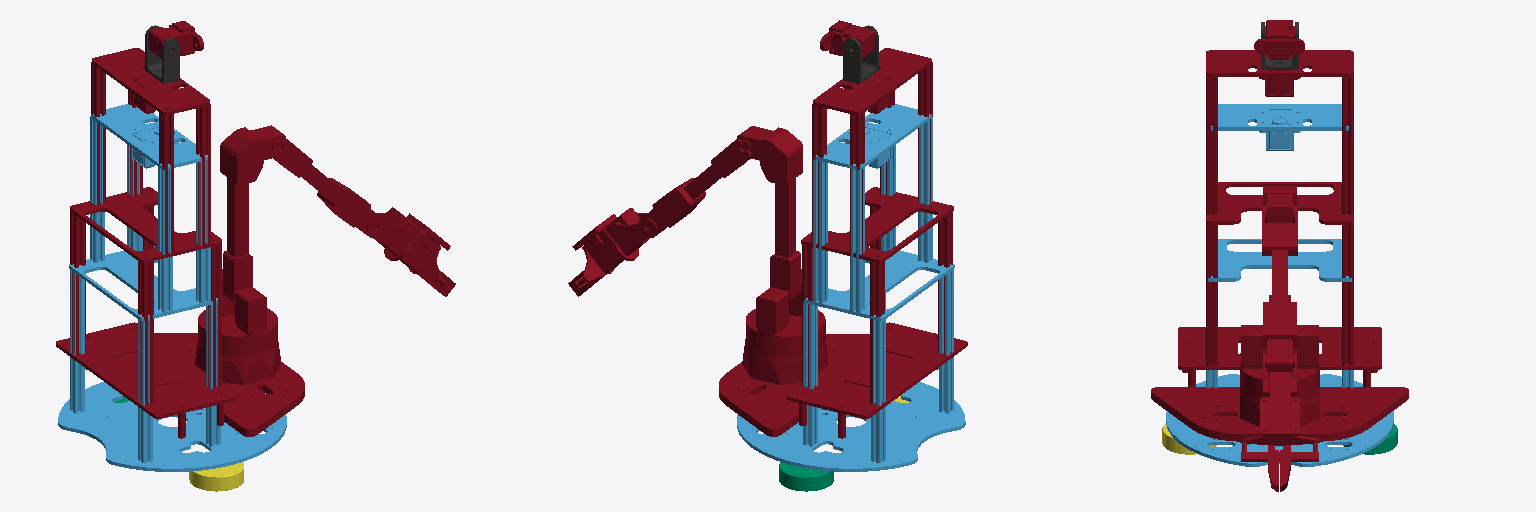
--- Facts derived from the render (not from the file) ---
Views: 3 orthographic renders of the robot side by side, from view 1: azimuth 30°, elevation 25°; view 2: azimuth 150°, elevation 25°; view 3: azimuth 270°, elevation 25°.
Model static_bot with 25 links and 24 joints (24 fixed), rooted at base_footprint, posed every joint at zero.
Visible links, largest first — view 1: base_link, cam_mount, elbow_link, plate_2, arm_base_link, forearm_link, shoulder_link, gripper_link, wrist_link, head_pan_link, head_tilt_link, wheel_right_link; view 2: base_link, cam_mount, elbow_link, plate_2, arm_base_link, forearm_link, shoulder_link, gripper_link, wrist_link, head_pan_link, head_tilt_link, wheel_left_link; view 3: cam_mount, base_link, plate_2, forearm_link, shoulder_link, arm_base_link, ar_tag, head_tilt_link, gripper_link, elbow_link, wrist_link, plate_1 (+1 smaller).
Boxes of the visible links, x1,y1,x2,y2 form: base_link: [58, 104, 286, 471]; cam_mount: [56, 48, 235, 438]; elbow_link: [220, 125, 285, 303]; plate_2: [154, 333, 304, 432]; arm_base_link: [195, 325, 280, 384]; forearm_link: [273, 139, 384, 237]; shoulder_link: [198, 269, 277, 338]; gripper_link: [384, 228, 452, 291]; wrist_link: [367, 207, 417, 255]; head_pan_link: [145, 25, 179, 83]; head_tilt_link: [148, 21, 203, 58]; wheel_right_link: [189, 462, 243, 491]; base_link: [737, 104, 965, 471]; cam_mount: [787, 48, 967, 438]; elbow_link: [737, 126, 802, 303]; plate_2: [719, 334, 869, 433]; arm_base_link: [742, 323, 828, 384]; forearm_link: [639, 139, 750, 237]; shoulder_link: [746, 269, 825, 338]; gripper_link: [571, 228, 638, 291]; wrist_link: [605, 208, 656, 255]; head_pan_link: [843, 25, 878, 83]; head_tilt_link: [820, 20, 874, 57]; wheel_left_link: [779, 462, 833, 491]; cam_mount: [1178, 50, 1381, 386]; base_link: [1166, 104, 1393, 466]; plate_2: [1151, 387, 1408, 437]; forearm_link: [1262, 207, 1297, 371]; shoulder_link: [1240, 325, 1319, 381]; arm_base_link: [1240, 369, 1319, 426]; ar_tag: [1260, 397, 1299, 435]; head_tilt_link: [1254, 20, 1304, 59]; gripper_link: [1240, 436, 1319, 461]; elbow_link: [1263, 186, 1296, 301]; wrist_link: [1263, 351, 1296, 396]; plate_1: [1151, 395, 1408, 441].
Bounding box of the posed robot: 0.545 × 0.3299 × 0.5892 m (x, y, z).
Meshes: 16 distinct files referenced, 17 mesh visuals loaded (15 OBJ); not drawn: 1 (reference not matched to a file when rendering).

The robot description file, URDF, robot "static_bot":
<?xml version="1.0" ?>
<robot name="static_bot">
    <!-- Kobuki -->
    <link name="base_footprint"/>
    <!--
       Base link is set at the bottom of the base mould.
       This is done to be compatible with the way base link
       was configured for turtlebot 1. Refer to

       https://github.com/turtlebot/turtlebot/issues/40

       To put the base link at the more oft used wheel
       axis, set the z-distance from the base_footprint
       to 0.352.
      -->
    <joint name="base_joint" type="fixed">
        <origin rpy="0 0 0" xyz="0 0 0"/>
        <parent link="base_footprint"/>
        <child link="base_link"/>
    </joint>
    <link name="base_link">
        <visual>
            <geometry>
                <!-- new mesh -->
                <mesh filename="meshes/base_link2.obj"/>
            </geometry>
            <origin rpy="0 0 0" xyz="0.001 0 0.05199"/>
        </visual>
        <collision name="base">
            <geometry>
                <cylinder length="0.10938" radius="0.178"/>
            </geometry>
            <origin rpy="0 0 0" xyz="0.0 0 0.05949"/>
        </collision>
        <inertial>
            <!-- COM experimentally determined -->
            <origin xyz="0.01 0 0"/>
            <mass value="2.4"/>
            <!-- 2.4/2.6 kg for small/big battery pack -->
            <!-- Kobuki's inertia tensor is approximated by a cylinder with homogeneous mass distribution
             More details: http://en.wikipedia.org/wiki/List_of_moment_of_inertia_tensors
             m = 2.4 kg; h = 0.09 m; r = 0.175 m
             ixx = 1/12 * m * (3 * r^2 + h^2)
             iyy = 1/12 * m * (3 * r^2 + h^2)
             izz = 1/2 * m * r^2
          -->
            <inertia ixx="0.019995" ixy="0.0" ixz="0.0" iyy="0.019995" iyz="0.0" izz="0.03675"/>
        </inertial>
    </link>
    <joint name="wheel_left_joint" type="fixed">
        <parent link="base_link"/>
        <child link="wheel_left_link"/>
        <origin rpy="-1.57079632679 0 0" xyz="0.00 0.115 0.0250"/>
    </joint>
    <link name="wheel_left_link">
        <visual>
            <geometry>
                <mesh filename="meshes/wheel.obj"/>
            </geometry>
            <origin rpy="0 0 0" xyz="0 0 0"/>
        </visual>
        <collision>
            <geometry>
                <cylinder length="0.0206" radius="0.0352"/>
            </geometry>
            <origin rpy="0 0 0" xyz="0 0 0"/>
        </collision>
        <inertial>
            <mass value="0.01"/>
            <origin xyz="0 0 0"/>
            <inertia ixx="0.001" ixy="0.0" ixz="0.0" iyy="0.001" iyz="0.0" izz="0.001"/>
        </inertial>
    </link>
    <joint name="wheel_right_joint" type="fixed">
        <parent link="base_link"/>
        <child link="wheel_right_link"/>
        <origin rpy="-1.57079632679 0 0" xyz="0.00 -0.115 0.0250"/>
    </joint>
    <link name="wheel_right_link">
        <visual>
            <geometry>
                <mesh filename="meshes/wheel.obj"/>
            </geometry>
            <origin rpy="0 0 0" xyz="0 0 0"/>
        </visual>
        <collision>
            <geometry>
                <cylinder length="0.0206" radius="0.0350"/>
            </geometry>
            <origin rpy="0 0 0" xyz="0 0 0"/>
        </collision>
        <inertial>
            <mass value="0.01"/>
            <origin xyz="0 0 0"/>
            <inertia ixx="0.001" ixy="0.0" ixz="0.0" iyy="0.001" iyz="0.0" izz="0.001"/>
        </inertial>
    </link>
    <joint name="caster_front_joint" type="fixed">
        <parent link="base_link"/>
        <child link="caster_front_link"/>
        <origin rpy="-1.57079632679 0 0" xyz="0.115 0.0 0.007"/>
    </joint>
    <link name="caster_front_link">
        <collision>
            <geometry>
                <cylinder length="0.0176" radius="0.017"/>
            </geometry>
            <origin rpy="0 0 0" xyz="0 0 0"/>
        </collision>
        <inertial>
            <mass value="0.01"/>
            <origin xyz="0 0 0"/>
            <inertia ixx="0.001" ixy="0.0" ixz="0.0" iyy="0.001" iyz="0.0" izz="0.001"/>
        </inertial>
    </link>
    <joint name="caster_back_joint" type="fixed">
        <parent link="base_link"/>
        <child link="caster_back_link"/>
        <origin rpy="-1.57079632679 0 0" xyz="-0.135 0.0 0.009"/>
    </joint>
    <link name="caster_back_link">
        <collision>
            <geometry>
                <cylinder length="0.0176" radius="0.017"/>
            </geometry>
            <origin rpy="0 0 0" xyz="0 0 0"/>
        </collision>
        <inertial>
            <mass value="0.01"/>
            <origin xyz="0 0 0"/>
            <inertia ixx="0.001" ixy="0.0" ixz="0.0" iyy="0.001" iyz="0.0" izz="0.001"/>
        </inertial>
    </link>
    <!-- Kobuki's sensors -->
    <joint name="gyro_joint" type="fixed">
        <axis xyz="0 1 0"/>
        <origin rpy="0 0 0" xyz="0.056 0.062 0.0202"/>
        <parent link="base_link"/>
        <child link="gyro_link"/>
    </joint>
    <link name="gyro_link">
        <inertial>
            <mass value="0.001"/>
            <origin rpy="0 0 0" xyz="0 0 0"/>
            <inertia ixx="0.0001" ixy="0" ixz="0" iyy="0.000001" iyz="0" izz="0.0001"/>
        </inertial>
    </link>
    <joint name="cliff_sensor_left_joint" type="fixed">
        <origin rpy="0 1.57079632679 0" xyz="0.08734 0.13601 0.0214"/>
        <parent link="base_link"/>
        <child link="cliff_sensor_left_link"/>
    </joint>
    <link name="cliff_sensor_left_link">
        <inertial>
            <mass value="0.0001"/>
            <origin xyz="0 0 0"/>
            <inertia ixx="0.0001" ixy="0.0" ixz="0.0" iyy="0.0001" iyz="0.0" izz="0.0001"/>
        </inertial>
    </link>
    <joint name="cliff_sensor_right_joint" type="fixed">
        <origin rpy="0 1.57079632679 0" xyz="0.085 -0.13601 0.0214"/>
        <parent link="base_link"/>
        <child link="cliff_sensor_right_link"/>
    </joint>
    <link name="cliff_sensor_right_link">
        <inertial>
            <mass value="0.0001"/>
            <origin xyz="0 0 0"/>
            <inertia ixx="0.0001" ixy="0.0" ixz="0.0" iyy="0.0001" iyz="0.0" izz="0.0001"/>
        </inertial>
    </link>
    <joint name="cliff_sensor_front_joint" type="fixed">
        <origin rpy="0 1.57079632679 0" xyz="0.156 0.00 0.0214"/>
        <parent link="base_link"/>
        <child link="cliff_sensor_front_link"/>
    </joint>
    <link name="cliff_sensor_front_link">
        <inertial>
            <mass value="0.0001"/>
            <origin xyz="0 0 0"/>
            <inertia ixx="0.0001" ixy="0.0" ixz="0.0" iyy="0.0001" iyz="0.0" izz="0.0001"/>
        </inertial>
    </link>
    <!-- plates  -->
    <link name="plate_1">
        <inertial>
            <origin rpy="0 0 0" xyz="0 0 0"/>
            <mass value="0.640128902693298"/>
            <inertia ixx="0.0212697824374231" ixy="-1.84819421839641E-07" ixz="0.00177278831625861" iyy="0.0200161122874848" iyz="1.82514218153984E-07" izz="0.00538401325307411"/>
        </inertial>
        <visual>
            <origin rpy="0 0 0" xyz="0 0 0"/>
            <geometry>
                <mesh filename="meshes/plate.obj"/>
            </geometry>
            <material name="">
                <color rgba="0.56 0.095 0.165 1.0" />
            </material>
        </visual>
        <collision>
            <origin rpy="0 0 0" xyz="0 0 0"/>
            <geometry>
                <mesh filename="meshes/plate.obj"/>
            </geometry>
        </collision>
    </link>
    <joint name="plate_1_joint" type="fixed">
        <origin rpy="0 0 0" xyz="0.0973 0 0.0902375"/>
        <parent link="base_link"/>
        <child link="plate_1"/>
        <axis xyz="0 0 0"/>
    </joint>
    <link name="plate_2">
        <inertial>
            <origin rpy="0 0 0" xyz="0 0 0"/>
            <mass value="0.640128902693298"/>
            <inertia ixx="0.0212697824374231" ixy="-1.84819421839641E-07" ixz="0.00177278831625861" iyy="0.0200161122874848" iyz="1.82514218153984E-07" izz="0.00538401325307411"/>
        </inertial>
        <visual>
            <origin rpy="0 0 0" xyz="0 0 0"/>
            <geometry>
                <mesh filename="meshes/plate.obj"/>
            </geometry>
            <material name="">
                <color rgba="0.56 0.095 0.165 1.0" />
            </material>
        </visual>
        <collision>
            <origin rpy="0 0 0" xyz="0 0 0"/>
            <geometry>
                <mesh filename="meshes/plate.obj"/>
            </geometry>
        </collision>
    </link>
    <joint name="plate_2_joint" type="fixed">
        <origin rpy="0 0 0" xyz="0 0 0.0047625"/>
        <parent link="plate_1"/>
        <child link="plate_2"/>
        <axis xyz="0 0 0"/>
    </joint>
    <!-- add arm -->
    <link name="arm_base_link">
        <inertial>
            <origin rpy="0 0 0" xyz="-1.86027246940057E-08 -1.84987775462994E-08 0.0400356424684456"/>
            <mass value="0.531491686912019"/>
            <inertia ixx="0.000533657400855491" ixy="-4.44205269454465E-09" ixz="2.11078566024265E-10" iyy="0.000533665698902565" iyz="5.02029005902419E-11" izz="0.00071572082392375"/>
        </inertial>
        <visual>
            <origin rpy="0 0 0" xyz="0 0 0"/>
            <geometry>
                <mesh filename="meshes/arm_base_link.obj"/>
            </geometry>
            <material name="">
                <color rgba="0.56 0.095 0.165 1.0" />
            </material>
        </visual>
        <collision>
            <origin rpy="0 0 0" xyz="0 0 0"/>
            <geometry>
                <mesh filename="meshes/arm_base_link.obj"/>
            </geometry>
        </collision>
    </link>
    <joint name="arm_base_link_joint" type="fixed">
        <origin rpy="0 0 0" xyz="0 0 0.001"/>
        <parent link="plate_2"/>
        <child link="arm_base_link"/>
        <axis xyz="0 0 0"/>
    </joint>
    <link name="shoulder_link">
        <inertial>
            <origin rpy="0 0 0" xyz="-5.67968980068612E-05 1.09785478984274E-10 0.0228467386735302"/>
            <mass value="0.119861197293521"/>
            <inertia ixx="0.000161288180462291" ixy="7.59806211309873E-14" ixz="-1.45323090659527E-07" iyy="5.49696562437107E-05" iyz="1.81052501311883E-13" izz="0.000150800672543169"/>
        </inertial>
        <visual>
            <origin rpy="0 0 0" xyz="0 0 0"/>
            <geometry>
                <mesh filename="meshes/shoulder_link.obj"/>
            </geometry>
            <material name="">
                <color rgba="0.56 0.095 0.165 1.0" />
            </material>
        </visual>
        <collision>
            <origin rpy="0 0 0" xyz="0 0 0"/>
            <geometry>
                <mesh filename="meshes/shoulder_link.obj"/>
            </geometry>
        </collision>
    </link>
    <joint name="joint_1" type="fixed">
        <origin rpy="0 0 0" xyz="0 0 0.072"/>
        <parent link="arm_base_link"/>
        <child link="shoulder_link"/>

    </joint>
    <link name="elbow_link">
        <inertial>
            <origin rpy="0 0 0" xyz="0.00959755948481227 -2.30930057287648E-10 0.134296795349987"/>
            <mass value="0.212482745791037"/>
            <inertia ixx="0.0011748973771367" ixy="-4.7094567420817E-13" ixz="-0.000132188939134774" iyy="0.00122350302249847" iyz="-5.48932537472287E-12" izz="9.02202689343621E-05"/>
        </inertial>
        <visual>
            <origin rpy="0 0 0" xyz="0 0 0"/>
            <geometry>
                <mesh filename="meshes/elbow_link.obj"/>
            </geometry>
            <material name="">
                <color rgba="0.56 0.095 0.165 1.0" />
            </material>
        </visual>
        <collision>
            <origin rpy="0 0 0" xyz="0 0 0"/>
            <geometry>
                <mesh filename="meshes/elbow_link.obj"/>
            </geometry>
        </collision>
    </link>
    <joint name="joint_2" type="fixed">
        <origin rpy="0 0 0" xyz="0 0 0.04125"/>
        <parent link="shoulder_link"/>
        <child link="elbow_link"/>

    </joint>
    <link name="forearm_link">
        <inertial>
            <origin rpy="0 0 0" xyz="0.117829826272582 3.09310973110905E-15 -1.26218883678142E-08"/>
            <mass value="0.18746427435805"/>
            <inertia ixx="3.94142667601686E-05" ixy="-3.65830967659785E-19" ixz="9.25852572167442E-11" iyy="0.000725209569605637" iyz="-1.05290858715495E-18" izz="0.000737165881391993"/>
        </inertial>
        <visual>
            <origin rpy="0 0 0" xyz="0 0 0"/>
            <geometry>
                <mesh filename="meshes/forearm_link.obj"/>
            </geometry>
            <material name="">
                <color rgba="0.56 0.095 0.165 1.0" />
            </material>
        </visual>
        <collision>
            <origin rpy="0 0 0" xyz="0 0 0"/>
            <geometry>
                <mesh filename="meshes/forearm_link.obj"/>
            </geometry>
        </collision>
    </link>
    <joint name="joint_3" type="fixed">
        <origin rpy="0 0.8 0" xyz="0.05 0 0.2"/>
        <parent link="elbow_link"/>
        <child link="forearm_link"/>

    </joint>
    <link name="wrist_link">
        <inertial>
            <origin rpy="0 0 0" xyz="0.0429410028407894 4.98644733821042E-05 0.0114266948023652"/>
            <mass value="0.0605921736680362"/>
            <inertia ixx="1.84998512056284E-05" ixy="-1.03256667343112E-08" ixz="-1.71865409274096E-06" iyy="2.08955068262134E-05" iyz="5.05203399787143E-09" izz="1.97857037442992E-05"/>
        </inertial>
        <visual>
            <origin rpy="0 0 0" xyz="0 0 0"/>
            <geometry>
                <mesh filename="meshes/wrist_link.obj"/>
            </geometry>
            <material name="">
                <color rgba="0.56 0.095 0.165 1.0" />
            </material>
        </visual>
        <collision>
            <origin rpy="0 0 0" xyz="0 0 0"/>
            <geometry>
                <mesh filename="meshes/wrist_link.obj"/>
            </geometry>
        </collision>
    </link>
    <joint name="joint_4" type="fixed">
        <origin rpy="0 0 0" xyz="0.2002 0 0"/>
        <parent link="forearm_link"/>
        <child link="wrist_link"/>

    </joint>
    <link name="gripper_link">
        <inertial>
            <origin rpy="0 0 0" xyz="0.0311572802112565 -1.25977280754998E-05 0.0092307003092138"/>
            <mass value="0.0795745052466434"/>
            <inertia ixx="3.27413333929741E-05" ixy="3.7314060486416E-08" ixz="3.97669066588691E-06" iyy="4.47182985231326E-05" iyz="-9.49992756213297E-09" izz="5.02142570756738E-05"/>
        </inertial>
        <visual>
            <origin rpy="0 0 0" xyz="0 0 0"/>
            <geometry>
                <mesh filename="meshes/gripper_link.obj"/>
            </geometry>
            <material name="">
                <color rgba="0.56 0.095 0.165 1.0" />
            </material>
        </visual>
        <collision>
            <origin rpy="0 0 0" xyz="0 0 0"/>
            <geometry>
                <mesh filename="meshes/gripper_link.obj"/>
            </geometry>
        </collision>
    </link>
    <joint name="joint_5" type="fixed">
        <origin rpy="0 0 0" xyz="0.063 0.0001 0"/>
        <parent link="wrist_link"/>
        <child link="gripper_link"/>
    </joint>
    <link name="finger_r">
        <inertial>
            <origin rpy="0 0 0" xyz="0.0100191457715113 -0.00843835347348892 -0.00483280251641866"/>
            <mass value="0.0121931459003602"/>
            <inertia ixx="6.74016278931418E-07" ixy="-2.36459038775023E-07" ixz="3.1480125304693E-09" iyy="3.10966297287339E-06" iyz="1.19271018871704E-10" izz="2.77935600332309E-06"/>
        </inertial>
        <visual>
            <origin rpy="0 0 0" xyz="0 0 0"/>
            <geometry>
                <mesh filename="meshes/finger_r.obj"/>
            </geometry>
            <material name="">
                <color rgba="0.56 0.095 0.165 1.0" />
            </material>
        </visual>
        <collision>
            <origin rpy="0 0 0" xyz="0 0 0"/>
            <geometry>
                <mesh filename="meshes/finger_r.obj"/>
            </geometry>
        </collision>
    </link>
    <joint name="joint_6" type="fixed">
        <origin rpy="0 0 0" xyz="0.07285 0 0.0050143"/>
        <parent link="gripper_link"/>
        <child link="finger_r"/>

    </joint>
    <link name="finger_l">
        <inertial>
            <origin rpy="0 0 0" xyz="0.0100191599590265 0.00643833435729511 -0.00483280251641866"/>
            <mass value="0.0121931459003603"/>
            <inertia ixx="6.74017180959932E-07" ixy="2.3646368440071E-07" ixz="3.14801230297432E-09" iyy="3.10966207084492E-06" iyz="-1.19277023229564E-10" izz="2.77935600332313E-06"/>
        </inertial>
        <visual>
            <origin rpy="0 0 0" xyz="0 0 0"/>
            <geometry>
                <mesh filename="meshes/finger_l.obj"/>
            </geometry>
            <material name="">
                <color rgba="0.56 0.095 0.165 1.0" />
            </material>
        </visual>
        <collision>
            <origin rpy="0 0 0" xyz="0 0 0"/>
            <geometry>
                <mesh filename="meshes/finger_l.obj"/>
            </geometry>
        </collision>
    </link>
    <joint name="joint_7" type="fixed">
        <origin rpy="0 0 0" xyz="0.07285 0 0.0050143"/>
        <parent link="gripper_link"/>
        <child link="finger_l"/>

    </joint>
    <link name="ar_tag">
        <inertial>
            <origin rpy="0 0 0" xyz="-1.59182528269852E-09 1.70641183422241E-09 -0.00509579048106218"/>
            <mass value="0.0202622634619862"/>
            <inertia ixx="4.71058333074219E-06" ixy="3.03778067070489E-12" ixz="6.65421687578365E-13" iyy="4.05773489073818E-06" iyz="1.37033485576347E-13" izz="7.92378853658606E-06"/>
        </inertial>
        <visual>
            <origin rpy="0 0 0" xyz="0 0 0"/>
            <geometry>
                <mesh filename="meshes/ar_tag.obj"/>
            </geometry>
            <material name="">
                <color rgba="0.56 0.095 0.165 1.0" />
            </material>
        </visual>
        <collision>
            <origin rpy="0 0 0" xyz="0 0 0"/>
            <geometry>
                <mesh filename="meshes/ar_tag.obj"/>
            </geometry>
        </collision>
    </link>
    <joint name="ar_tag_joint" type="fixed">
        <origin rpy="0 0 0" xyz="0.0269499999999999 0 0.04315"/>
        <parent link="gripper_link"/>
        <child link="ar_tag"/>
        <axis xyz="0 0 0"/>
    </joint>
    <!-- need to add camera assembly -->
    <link name="cam_mount">
        <inertial>
            <origin rpy="0 0 0" xyz="0.00357169217419921 -0.000144750803528887 0.178406861295468"/>
            <mass value="0.508068698311304"/>
            <inertia ixx="0.0159487749924762" ixy="9.45818767875249E-08" ixz="-0.000266253609478166" iyy="0.0137751425461872" iyz="2.26699147122113E-06" izz="0.00331206257835318"/>
        </inertial>
        <visual>
            <origin rpy="0 0 0" xyz="0 0 0"/>
            <geometry>
                <mesh filename="meshes/cam_mount.obj"/>
            </geometry>
            <material name="">
                <color rgba="0.56 0.095 0.165 1.0" />
            </material>
        </visual>
        <collision>
            <origin rpy="0 0 0" xyz="0 0 0"/>
            <geometry>
                <mesh filename="meshes/cam_mount.obj"/>
            </geometry>
        </collision>
    </link>
    <joint name="cam_mount_joint" type="fixed">
        <origin rpy="0 0 0" xyz="-0.03751 0 0.1331"/>
        <parent link="base_link"/>
        <child link="cam_mount"/>
        <axis xyz="0 0 0"/>
    </joint>
    <link name="head_pan_link">
        <inertial>
            <origin rpy="0 0 0" xyz="-1.35308431126191E-16 -2.97071395261028E-17 0.0220876265081744"/>
            <mass value="0.0182769203076134"/>
            <inertia ixx="1.32243845065555E-05" ixy="5.07660179129181E-13" ixz="1.067515220067E-20" iyy="7.13386116649085E-06" iyz="-1.32882457845217E-20" izz="7.83291781352837E-06"/>
        </inertial>
        <visual>
            <origin rpy="0 0 0" xyz="0 0 0"/>
            <geometry>
                <mesh filename="meshes/tilt_link.obj"/>
            </geometry>
            <material name="">
                <color rgba="0.250980392156863 0.250980392156863 0.250980392156863 1"/>
            </material>
        </visual>
        <collision>
            <origin rpy="0 0 0" xyz="0 0 0"/>
            <geometry>
                <mesh filename="meshes/tilt_link.obj"/>
            </geometry>
        </collision>
    </link>
    <joint name="head_pan_joint" type="fixed">
        <origin rpy="0 0 0" xyz="0.0240154841629213 -0.000373468229198185 0.4065"/>
        <parent link="cam_mount"/>
        <child link="head_pan_link"/>
    </joint>
    <link name="head_tilt_link">
        <inertial>
            <origin rpy="0 0 0" xyz="0.0168744200088311 -0.000442984145897884 -0.00405256422002387"/>
            <mass value="0.0547677687275323"/>
            <inertia ixx="1.07071738005716E-05" ixy="-1.46854788384565E-07" ixz="5.59529059364376E-08" iyy="1.77011620295824E-05" iyz="1.27587154712834E-09" izz="2.01583693170578E-05"/>
        </inertial>
        <visual>
            <origin rpy="0 0 0" xyz="0 0 0"/>
            <geometry>
                <mesh filename="meshes/roll_link.obj"/>
            </geometry>
            <material name="">
                <color rgba="0.56 0.095 0.165 1.0" />
            </material>
        </visual>
        <collision>
            <origin rpy="0 0 0" xyz="0 0 0"/>
            <geometry>
                <mesh filename="meshes/roll_link.obj"/>
            </geometry>
        </collision>
    </link>
    <joint name="head_tilt_joint" type="fixed">
        <origin rpy="0 0 0" xyz="0 0 0.05"/>
        <parent link="head_pan_link"/>
        <child link="head_tilt_link"/>

    </joint>
    <link name="camera_link">
        <inertial>
            <origin rpy="0 0 0" xyz="-0.0132722976093535 0.00168171470080143 2.49829664994428E-06"/>
            <mass value="0.0381925651163644"/>
            <inertia ixx="2.4688255642946E-05" ixy="1.60697655569215E-07" ixz="1.2993241737711E-08" iyy="3.66669176935806E-06" iyz="1.30215657011203E-08" izz="2.48602467766615E-05"/>
        </inertial>
        <visual>
            <origin rpy="0 0 0" xyz="0 0 0"/>
            <geometry>
                <mesh filename="meshes/camera_link.obj"/>
            </geometry>
            <material name="">
                <color rgba="0.56 0.095 0.165 1.0" />
            </material>
        </visual>
        <collision>
            <origin rpy="0 0 0" xyz="0 0 0"/>
            <geometry>
                <mesh filename="meshes/camera_link.obj"/>
            </geometry>
        </collision>
    </link>
    <joint name="camera_joint" type="fixed">
        <origin rpy="0 0 0" xyz="0.06705 0 -0.00425"/>
        <parent link="head_tilt_link"/>
        <child link="camera_link"/>
        <axis xyz="0 0 0"/>
    </joint>

    <!--     <gazebo>
            <plugin name="kobuki_controller" filename="libgazebo_ros_kobuki.so">
              <publish_tf>1</publish_tf>
              <publish_joint_states>0</publish_joint_states>
              <left_wheel_joint_name>wheel_left_joint</left_wheel_joint_name>
              <right_wheel_joint_name>wheel_right_joint</right_wheel_joint_name>
              <wheel_separation>.230</wheel_separation>
              <wheel_diameter>0.070</wheel_diameter>
              <torque>1.0</torque>
              <velocity_command_timeout>0.6</velocity_command_timeout>
              <cliff_sensor_left_name>cliff_sensor_left</cliff_sensor_left_name>
              <cliff_sensor_center_name>cliff_sensor_front</cliff_sensor_center_name>
              <cliff_sensor_right_name>cliff_sensor_right</cliff_sensor_right_name>
              <cliff_detection_threshold>0.04</cliff_detection_threshold>
              <bumper_name>bumpers</bumper_name>
              <robotNamespace>/base</robotNamespace>
            <imu_name>imu</imu_name>
            </plugin>
         </gazebo> -->


</robot>
